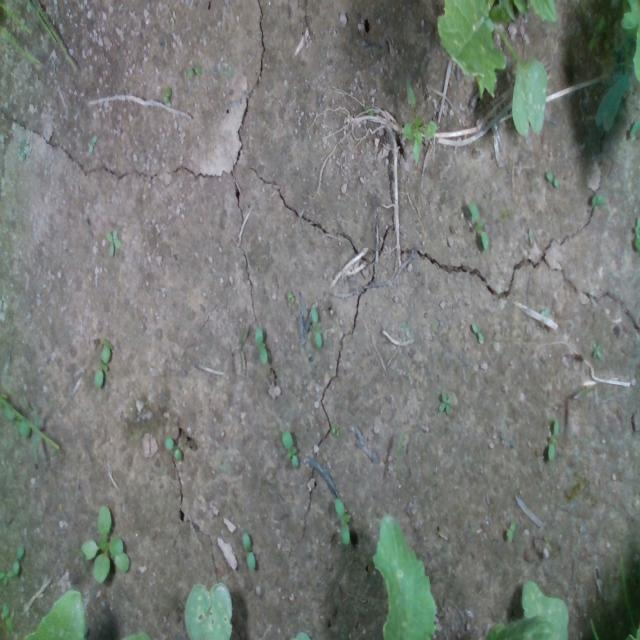weed: (465, 196, 489, 252), (332, 496, 352, 547), (281, 427, 299, 470), (94, 344, 110, 388), (240, 530, 256, 572), (163, 433, 183, 462), (547, 414, 559, 462), (254, 326, 268, 366), (105, 226, 122, 258), (310, 306, 322, 348), (437, 390, 452, 414), (544, 168, 560, 187), (470, 321, 484, 342), (185, 63, 202, 80), (589, 193, 605, 207), (506, 518, 516, 540), (591, 340, 602, 360), (162, 84, 172, 104), (330, 423, 340, 437)
